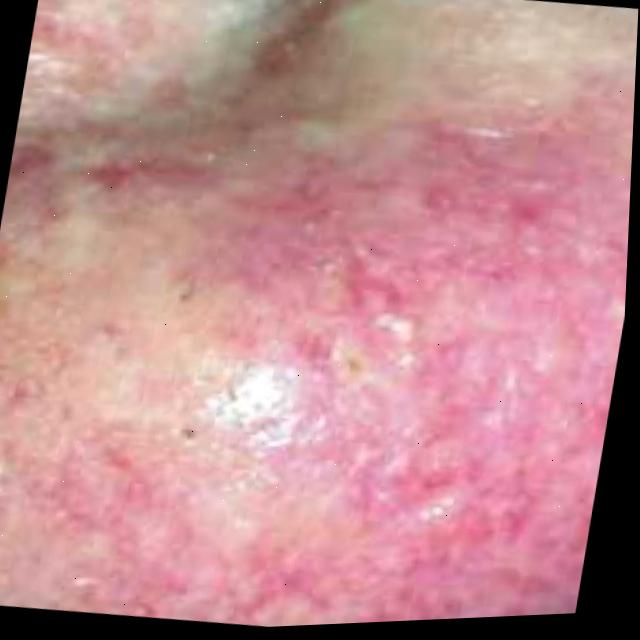Rosacea: (16, 23, 638, 638)
